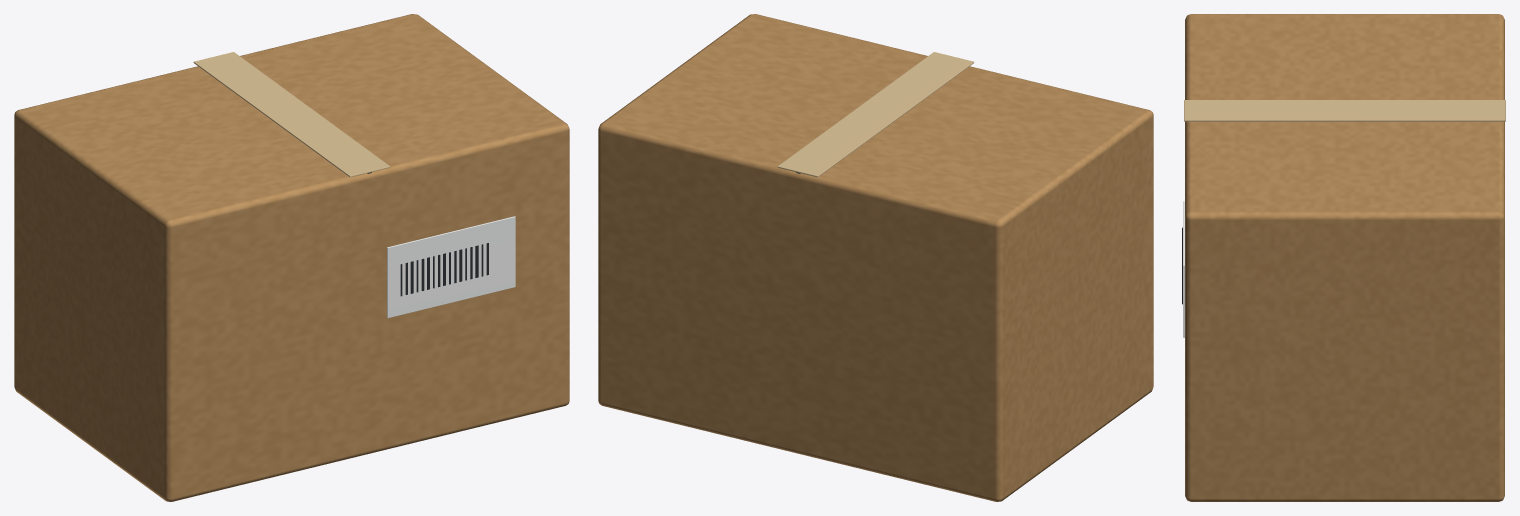
The picture shows the model from 3 angles, left to right: view 1: azimuth 30°, elevation 25°; view 2: azimuth 150°, elevation 25°; view 3: azimuth 270°, elevation 25°; orthographic projection. The views are drawn at different scales.
Parts seen in each view (by area): view 1: Carton, Shipping_label, Tape; view 2: Carton, Tape; view 3: Carton, Tape.
Part boxes in pixels (x1,y1,x2,y2): Carton: (14, 14, 569, 501); Shipping_label: (387, 216, 515, 318); Tape: (193, 52, 390, 177); Carton: (598, 14, 1153, 501); Tape: (777, 52, 974, 177); Carton: (1185, 14, 1504, 501); Tape: (1184, 100, 1505, 121).
Bounding box in the file's own units: 0.6 × 0.404 × 0.4045.
Materials: 4 (1 with a texture image).
